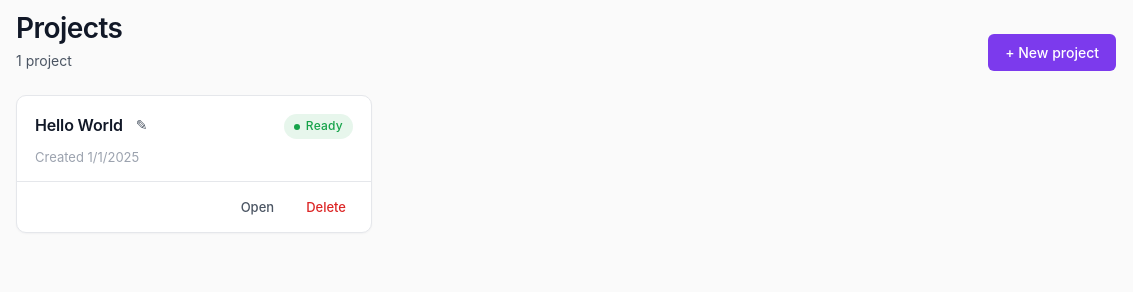
Scenario: ProjectListPage rename — Example E2 (Requirement 2.1) › pre-fills the input with the current title and focuses it
This screenshot has width=1133, height=292.
Expected: the heading "Hello World" is shown, [35,114,123,137]
Click the button named "Rename project" at (142, 126), box [129,116,154,136]
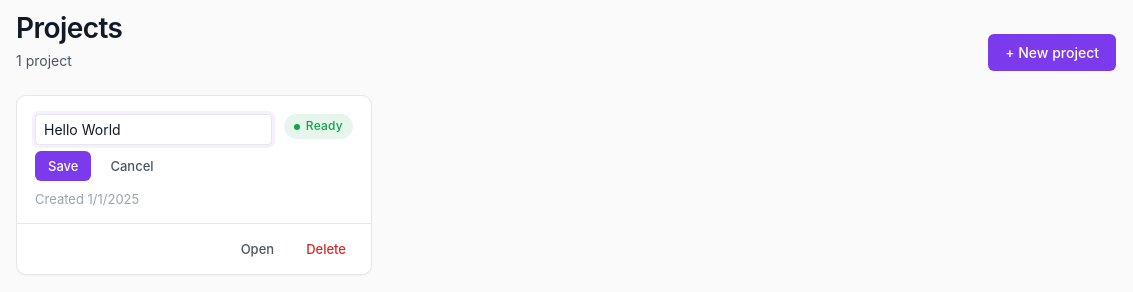
Now the field named "Project title" holds "Hello World", box [35,114,272,145]
